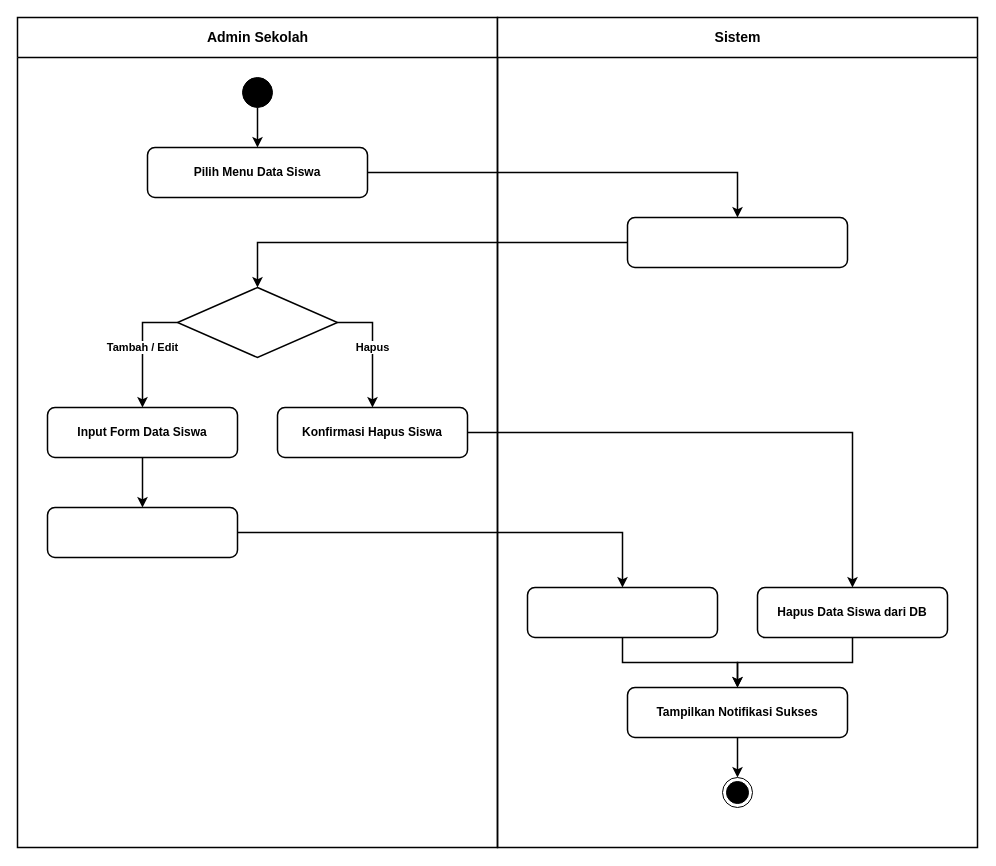
The diagram is 996 pixels wide and 866 high, and some of its shapes have lost their labels. Each missing label, with the centre of its shape:
Klik Simpan: [142,532]
Pilih Aksi: [257,322]
Simpan / Update Data Siswa ke DB: [622,612]
Tampilkan Daftar Siswa: [737,242]
